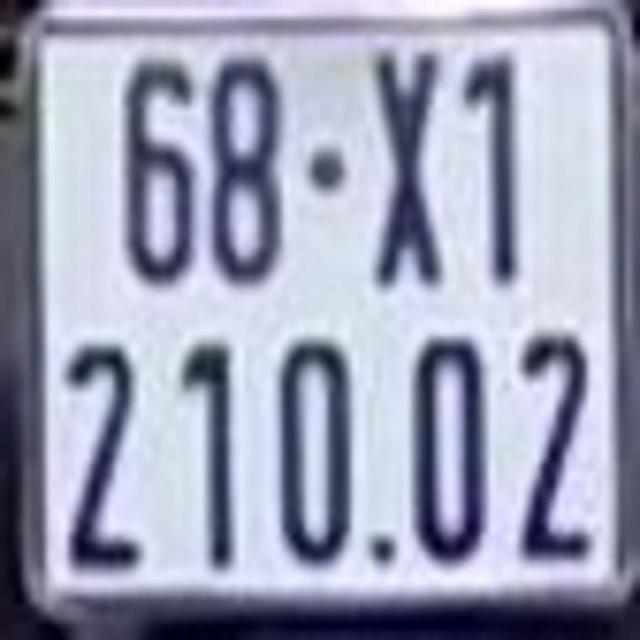0: (275, 342, 353, 566), (413, 337, 483, 560)
1: (464, 54, 526, 278), (180, 340, 232, 567)
2: (64, 344, 140, 568), (520, 330, 594, 554)
6: (123, 61, 193, 284)
8: (209, 59, 287, 287)
X: (370, 47, 444, 286)
